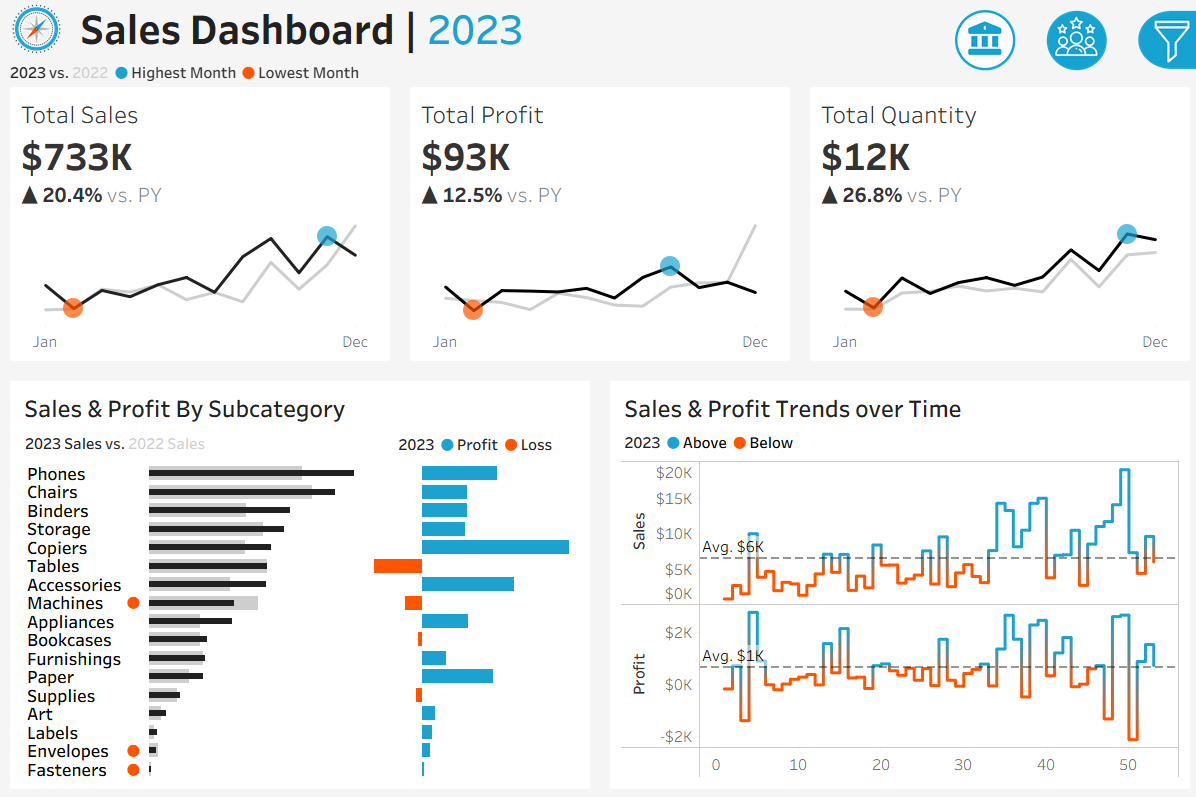

The page's visual inventory and layout, read from the dashboard file:
{"tool":"tableau","page":{"name":"Sales Dashboard","canvas":[1200,800],"ordinal":1},"visuals":[{"type":"image","param":"Image/Icon - Logo.png","box":[0,0,73,59]},{"type":"text","box":[73,0,820,59]},{"type":"dashboard-object","box":[940,6,91,70]},{"type":"dashboard-object","box":[1031,6,91,70]},{"type":"blank","box":[952,10,237,86]},{"type":"worksheet","title":"Legend KPI","mark":"Automatic","box":[0,59,1200,29]},{"type":"worksheet","title":"KPI Sales","mark":"Automatic","rows":["Calculation_721701895347843083"],"cols":["Order Date"],"box":[0,88,400,284]},{"type":"worksheet","title":"KPI Profit","mark":"Automatic","rows":["Min/Max Sales (copy)_237846410425847814"],"cols":["Order Date"],"box":[400,88,400,284]},{"type":"worksheet","title":"KPI Quantity","mark":"Automatic","rows":["Min/Max Sales (copy) (copy)_237846410425856007"],"cols":["Order Date"],"box":[800,88,400,284]},{"type":"text","box":[952,96,237,40]},{"type":"parameter","param":"[Parameters].[Parameter 1]","box":[952,136,237,56]},{"type":"text","box":[952,192,237,33]},{"type":"filter","title":"KPI Sales","param":"[federated.1kpxa041aiai2y1cl4pui1t4eju9].[none:Category:nk]","box":[952,225,237,61]},{"type":"filter","title":"KPI Sales","param":"[federated.1kpxa041aiai2y1cl4pui1t4eju9].[none:Sub-Category:nk]","box":[952,286,237,61]},{"type":"blank","box":[952,347,237,60]},{"type":"text","box":[17,389,566,40]},{"type":"text","box":[617,389,566,40]},{"type":"text","box":[952,407,237,33]},{"type":"worksheet","title":"Legend Subcategory","mark":"Automatic","box":[17,429,374,32]},{"type":"text","box":[391,429,192,32]},{"type":"text","box":[617,429,566,29]},{"type":"filter","title":"KPI Sales","param":"[federated.1kpxa041aiai2y1cl4pui1t4eju9].[none:Region:nk]","box":[952,440,237,61]},{"type":"worksheet","title":"Weekly Trends","mark":"Automatic","rows":["Calculation_721701895334993921","CY Sales (copy)_237846410424180736"],"cols":["Order Date"],"box":[617,458,566,325]},{"type":"worksheet","title":"Subcategory Comparison","mark":"Bar","rows":["Sub-Category","Calculation_2435040078806671369"],"cols":["CY Sales (copy)_721701895335804930","Calculation_721701895334993921","CY Sales (copy)_237846410424180736"],"box":[17,461,566,321.9]},{"type":"filter","title":"KPI Sales","param":"[federated.1kpxa041aiai2y1cl4pui1t4eju9].[none:State:nk]","box":[952,501,237,61]},{"type":"filter","title":"KPI Sales","param":"[federated.1kpxa041aiai2y1cl4pui1t4eju9].[none:City:nk]","box":[952,562,237,61]}]}

Visuals, with their boxes in screenshot pixels (x1, y1, x2, y2), scaled from the page's 1200x800 canvas onto the 1196x797 screenshot:
image: 0/0/73/59
text: 73/0/890/59
dashboard-object: 937/6/1028/76
dashboard-object: 1028/6/1118/76
blank: 949/10/1185/96
"Legend KPI" worksheet: 0/59/1195/88
"KPI Sales" worksheet: 0/88/399/371
"KPI Profit" worksheet: 399/88/797/371
"KPI Quantity" worksheet: 797/88/1195/371
text: 949/96/1185/135
parameter: 949/135/1185/191
text: 949/191/1185/224
"KPI Sales" filter: 949/224/1185/285
"KPI Sales" filter: 949/285/1185/346
blank: 949/346/1185/405
text: 17/388/581/427
text: 615/388/1179/427
text: 949/405/1185/438
"Legend Subcategory" worksheet: 17/427/390/459
text: 390/427/581/459
text: 615/427/1179/456
"KPI Sales" filter: 949/438/1185/499
"Weekly Trends" worksheet: 615/456/1179/780
"Subcategory Comparison" worksheet (Bar marks): 17/459/581/780
"KPI Sales" filter: 949/499/1185/560
"KPI Sales" filter: 949/560/1185/621
